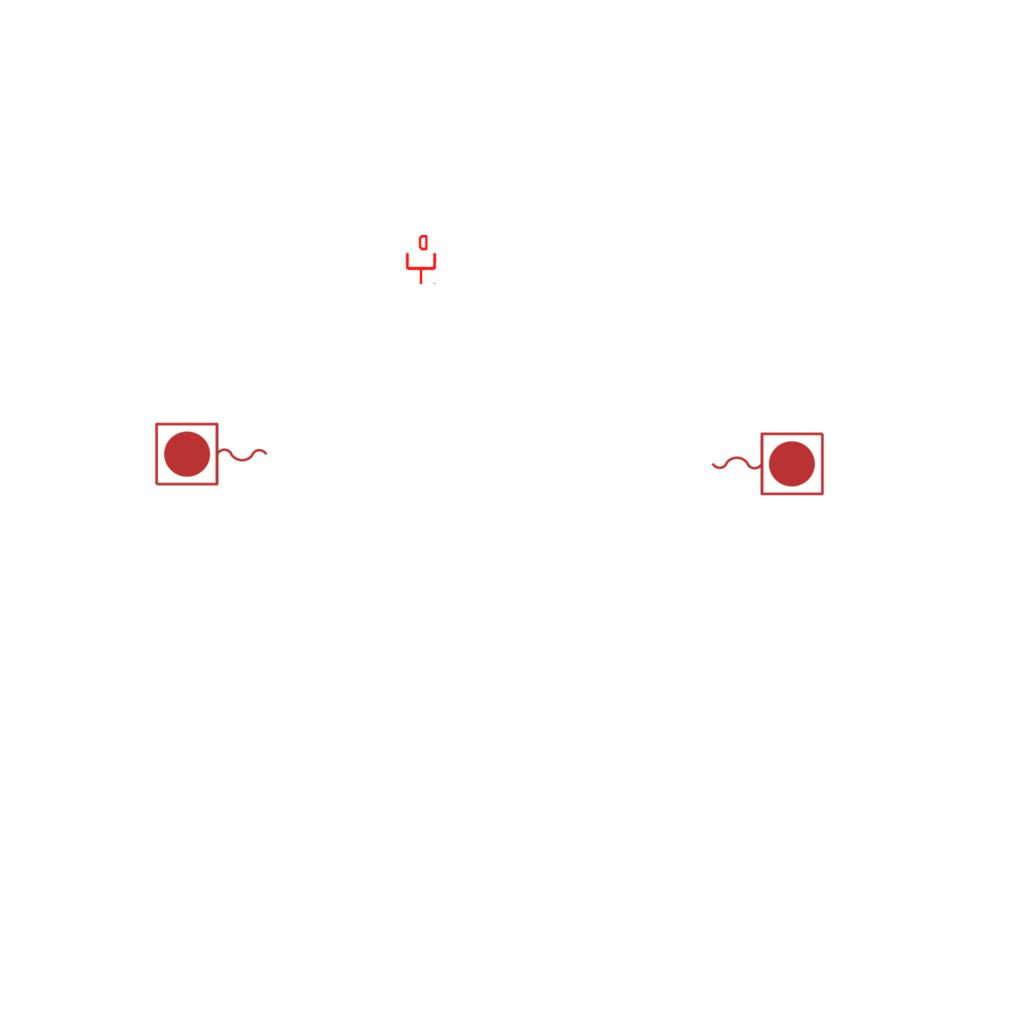Datenanschluss_einfach: (404, 235, 438, 285)
Zugtaster: (151, 419, 273, 491), (706, 427, 828, 499)
